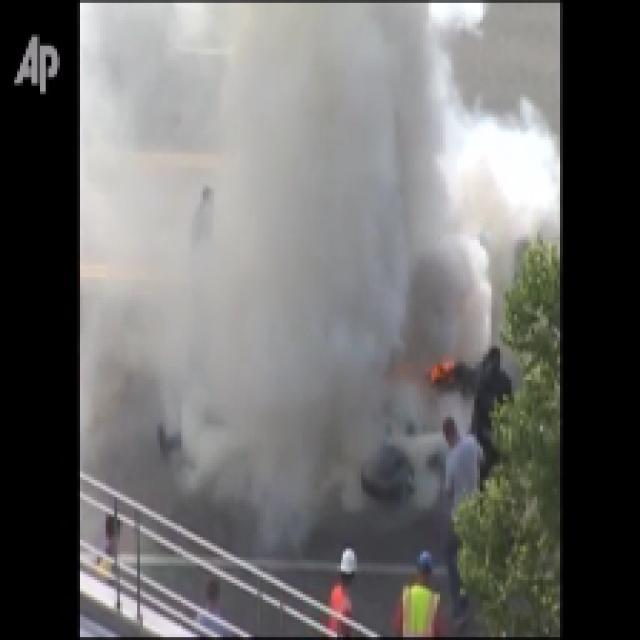Smoke: (195, 0, 498, 581)
